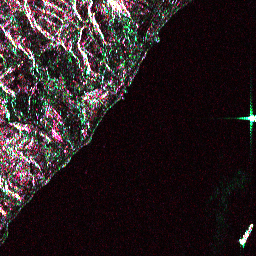ship: (237, 221, 255, 246), (245, 113, 255, 123)
